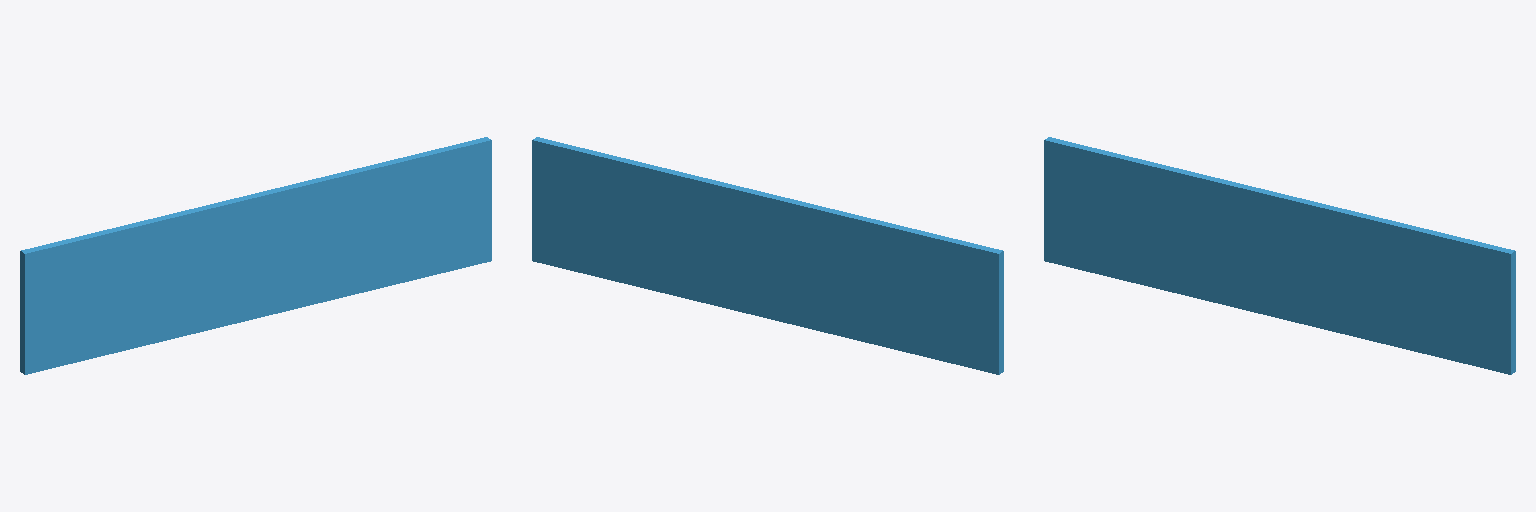
robot.urdf — hemis_21:
<?xml version="1.0" encoding="utf-8"?>    
    <robot name="hemis_21">
        <link name="hemis_21">    
            <fem>
                <origin rpy="0.0 0.0 0.0" xyz="0 0 0" />
                <density value="100" />
                <youngs value="1086"/>
                <poissons value="0.3" />
                <damping value="0.0" />
                <attachDistance value="0.04" />
                <tetmesh filename="[local-path]/sim_data/Custom/Custom_mesh/multi_hemis_1000Pa_2/hemis_21.tet" />
                <scale value="0.5"/>
            </fem>
        </link>

        <link name="fix_frame">
            <visual>
                <origin xyz="0 -10.148838054409516 0.07441902720475843"/>              
                <geometry>
                    <box size="0.3 0.005 0.07441902720475843"/>
                </geometry>
            </visual>
            <collision>
                <origin xyz="0 -0.14883805440951686 0.07441902720475843"/>              
                <geometry>
                    <box size="0.3 0.005 0.07441902720475843"/>
                </geometry>
            </collision>
            <inertial>
                <mass value="500000"/>
                <inertia ixx="0.05" ixy="0.0" ixz="0.0" iyy="0.05" iyz="0.0" izz="0.05"/>
            </inertial>
        </link>
        
        <joint name = "attach" type = "fixed">
            <origin xyz = "0.0 0.0 0.0" rpy = "0 0 0"/>
            <parent link ="hemis_21"/>
            <child link = "fix_frame"/>
        </joint>  




    </robot>
    

--- Facts derived from the render (not from the file) ---
Views: 3 orthographic renders of the robot side by side, from view 1: azimuth 30°, elevation 25°; view 2: azimuth 150°, elevation 25°; view 3: azimuth 330°, elevation 25°.
Model hemis_21 with 2 links and 1 joints (1 fixed), rooted at hemis_21, posed all joints at 0.
Visible links, largest first — view 1: fix_frame; view 2: fix_frame; view 3: fix_frame.
Boxes of the visible links, left/top/right/bottom form: fix_frame: left=20, top=137, right=491, bottom=374; fix_frame: left=532, top=137, right=1003, bottom=374; fix_frame: left=1044, top=137, right=1515, bottom=374.
Bounding box of the posed robot: 0.3 × 0.005 × 0.0744 m (x, y, z).
Geometry: primitives only (box / cylinder / sphere), no mesh files.